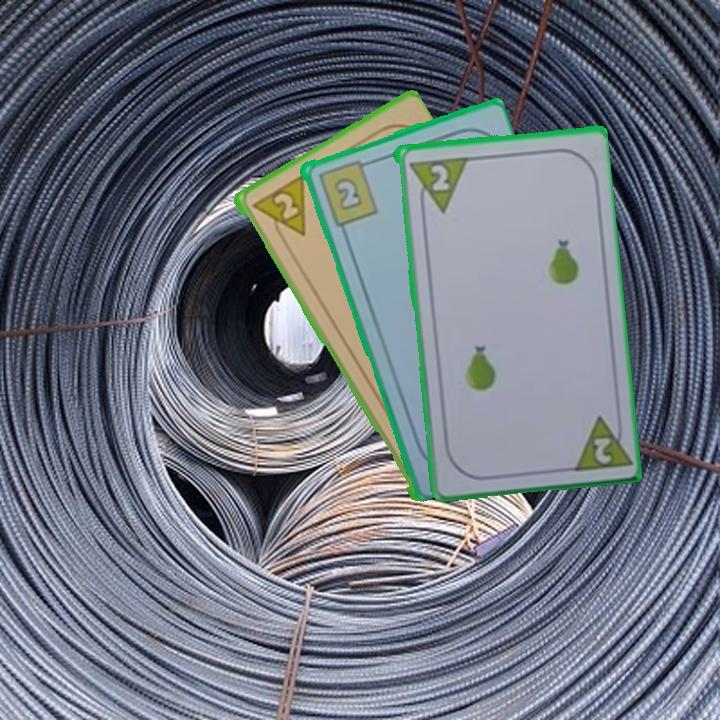2b: (314, 156, 381, 229)
2p: (248, 172, 309, 247), (425, 160, 451, 194), (589, 433, 613, 466)
